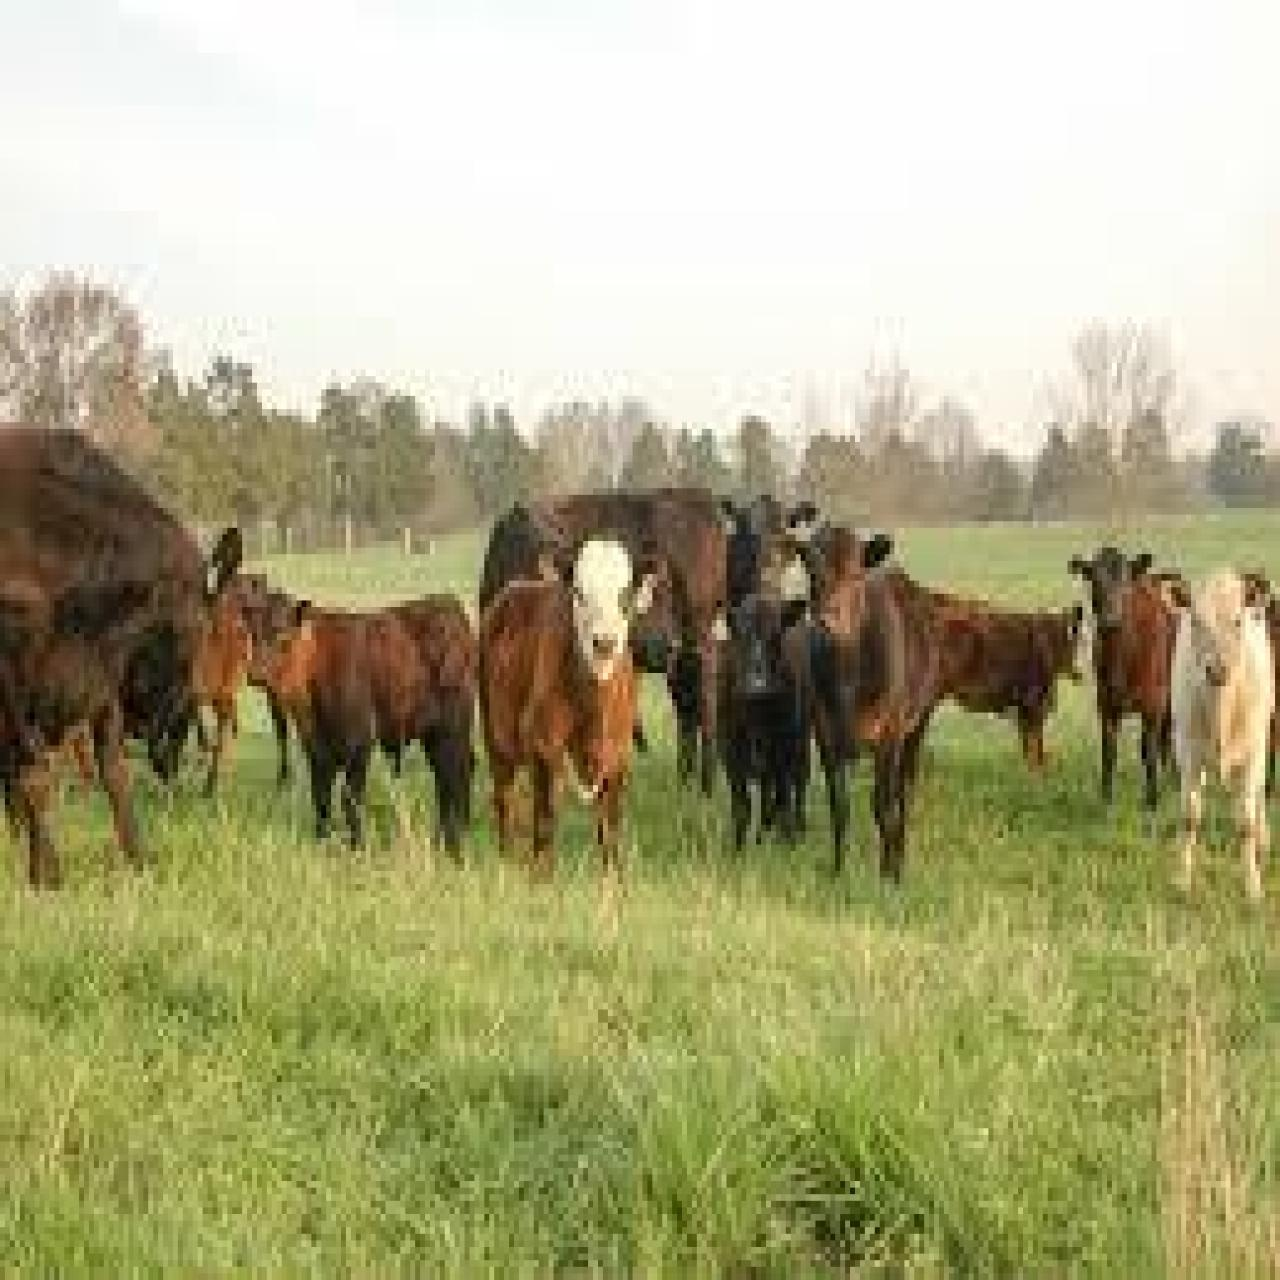cow: (0, 433, 237, 887), (241, 580, 504, 851), (470, 535, 658, 884), (794, 518, 937, 887), (1162, 567, 1280, 911), (903, 587, 1090, 765), (1073, 542, 1171, 812), (719, 587, 808, 845)
